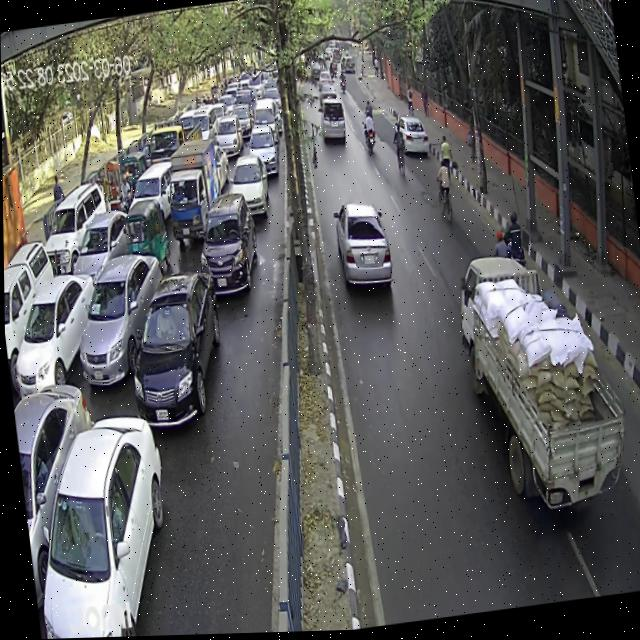cng: (117, 189, 172, 277), (117, 149, 152, 200)
